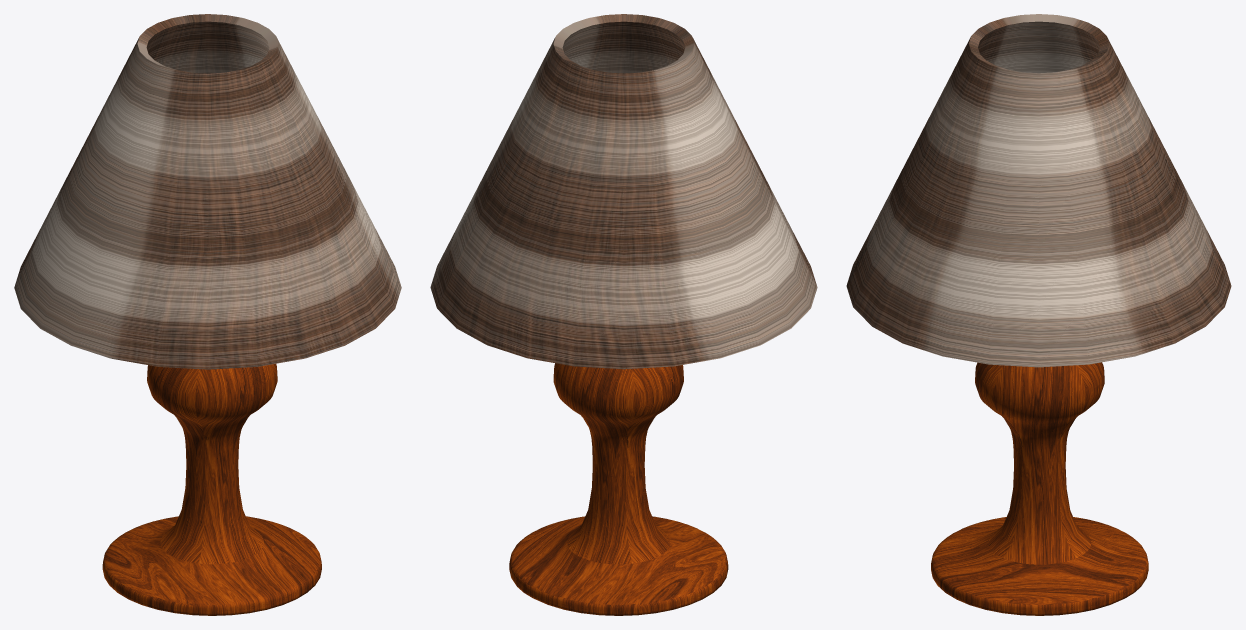
Rendered from lamptx.dae.
3 renders of one model, left to right at view 1: azimuth 30°, elevation 25°; view 2: azimuth 150°, elevation 25°; view 3: azimuth 270°, elevation 25°, orthographic.
Visible parts, largest first — view 1: Cone001, Cylinder001; view 2: Cone001, Cylinder001; view 3: Cone001, Cylinder001.
Part boxes in pixels (x1,y1,x2,y2): Cone001: (14,14,401,369); Cylinder001: (102,364,321,615); Cone001: (430,14,817,369); Cylinder001: (509,363,728,615); Cone001: (846,14,1231,367); Cylinder001: (931,362,1148,615).
Bounding box in the file's own units: 38.54 × 38.54 × 58.15.
2 materials, 2 textured.
